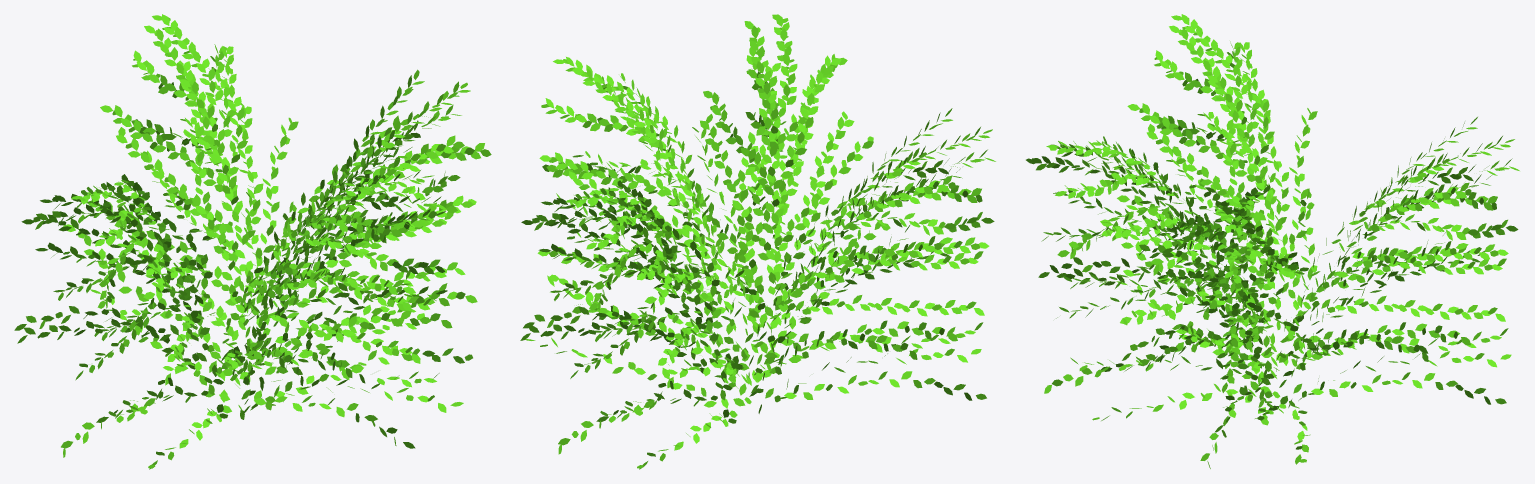
Rendered from shrub2.fbx.
3 views of the same model, side by side, from view 1: azimuth 30°, elevation 25°; view 2: azimuth 150°, elevation 25°; view 3: azimuth 270°, elevation 25° (orthographic). The views are drawn at different scales.
Parts seen in each view (by area): view 1: leaves.002, leaves, leaves.003, leaves.001; view 2: leaves.003, leaves.001, leaves, leaves.002; view 3: leaves.001, leaves.002, leaves, leaves.003.
Boxes of the visible parts, x1,y1,x2,y2 form: leaves.002: (63, 14, 298, 413); leaves: (235, 69, 491, 419); leaves.003: (212, 146, 463, 448); leaves.001: (14, 174, 244, 469); leaves.003: (639, 14, 890, 406); leaves.001: (741, 108, 995, 413); leaves: (525, 57, 766, 417); leaves.002: (520, 180, 743, 469); leaves.001: (1100, 14, 1317, 392); leaves.002: (1270, 117, 1519, 407); leaves: (1122, 187, 1369, 468); leaves.003: (1026, 136, 1271, 420).
Size of the model in its own units: 547 by 375 by 547.
